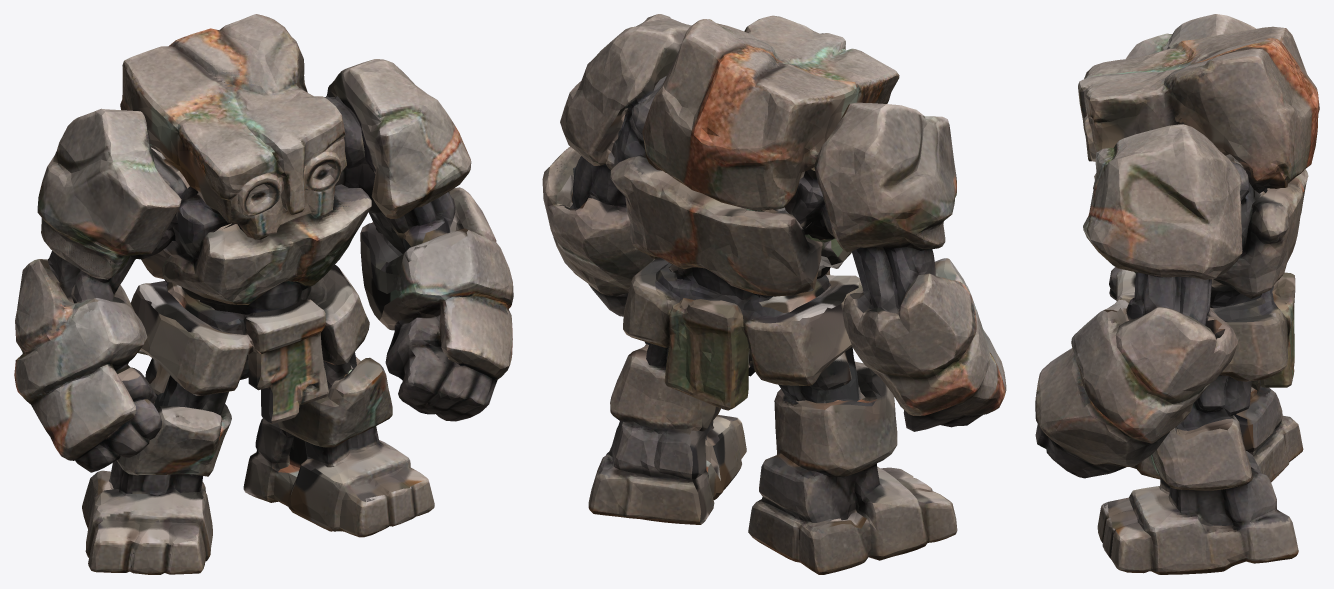
Rendered from boss_mine_guardian.glb.
The picture shows the model from 3 angles, left to right: view 1: azimuth 30°, elevation 25°; view 2: azimuth 150°, elevation 25°; view 3: azimuth 270°, elevation 25°; orthographic projection. The views are drawn at different scales.
Visible parts, largest first — view 1: temp_mesh.ply; view 2: temp_mesh.ply; view 3: temp_mesh.ply.
Part boxes in pixels (x1,y1,x2,y2): temp_mesh.ply: (14, 14, 513, 574); temp_mesh.ply: (542, 14, 1006, 574); temp_mesh.ply: (1035, 14, 1319, 574).
Bounding box in the file's own units: 1.91 × 1.96 × 1.07.
Materials: 1 (1 with a texture image).
